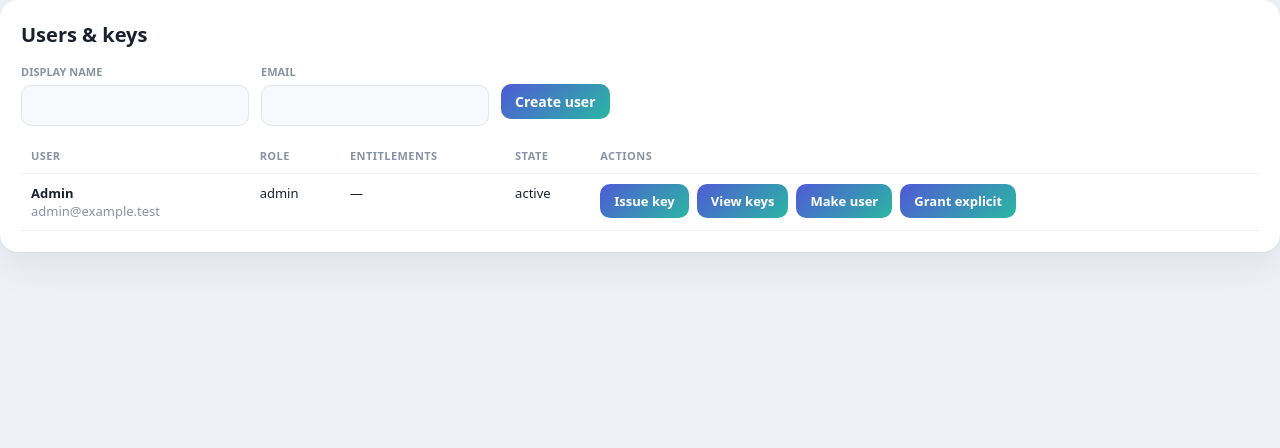
Scenario: shows a newly issued secret once and clears it from browser state
Click the button "Issue key".
click(645, 201)  # box [600,184,689,218]
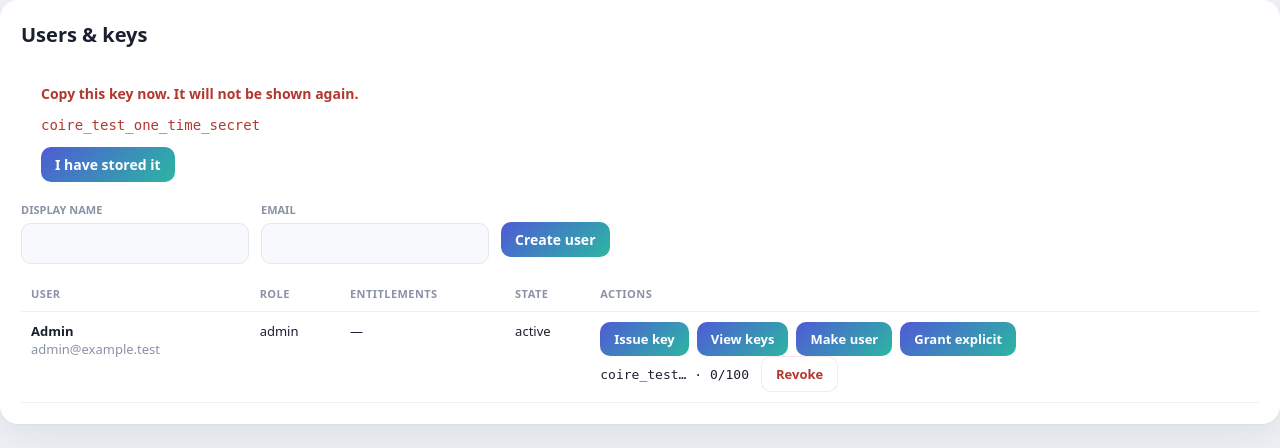
Now the text "coire_test_one_time_secret" is shown, box [41,117,260,133]
Click the button "I have stored it".
click(108, 164)  # box [41,147,174,182]
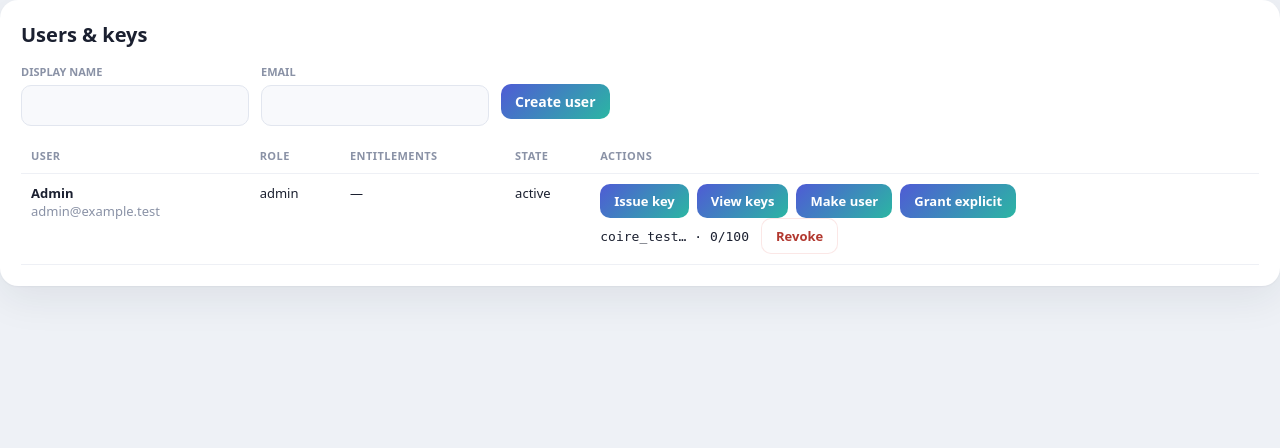
Now the text "coire_test_one_time_secret" is gone
